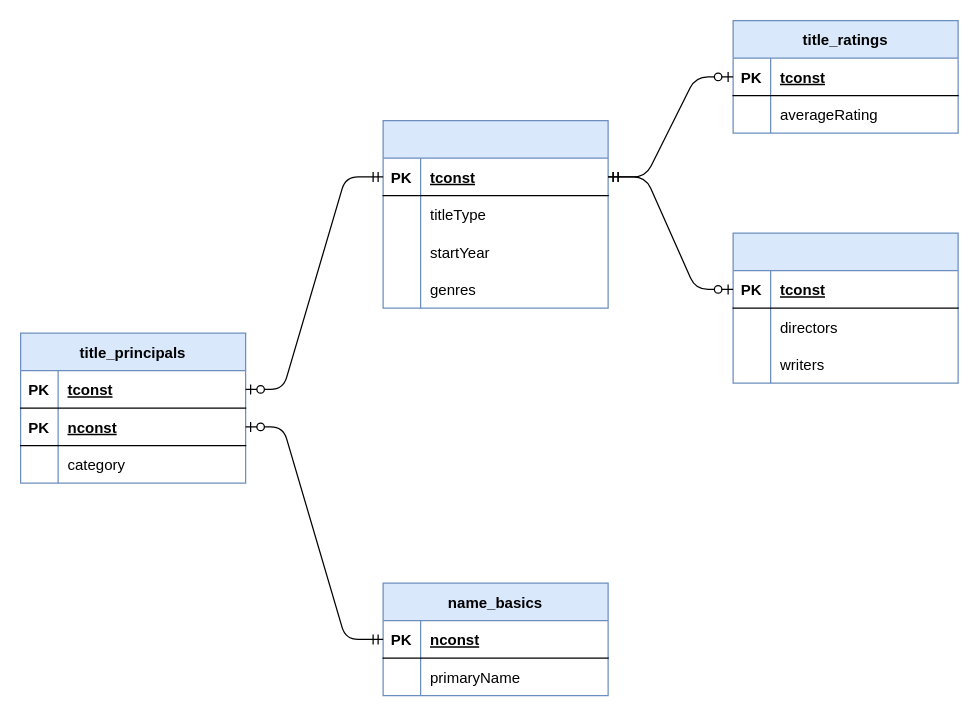
This 979x716 diagram has some shape labels left out. The shapes that lost their labels are listed below. From the top down, each one's box as (x1, y1, x2, y2) in pixels, then its label:
(382, 119, 608, 308): title_basics
(732, 232, 958, 383): title_crew
